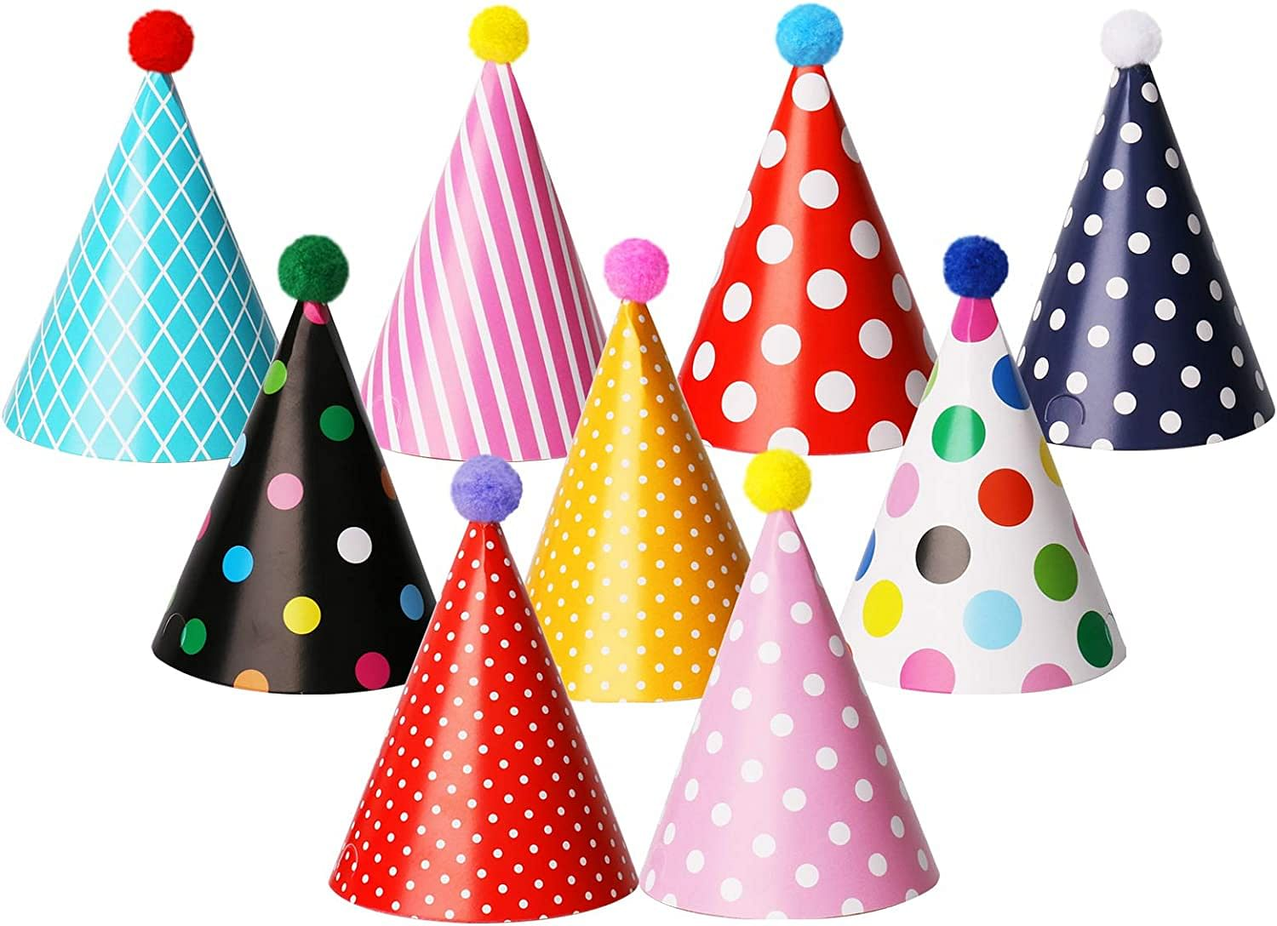cone: (329, 522, 639, 923), (639, 511, 940, 920), (838, 296, 1127, 694), (152, 300, 437, 694), (3, 70, 279, 462), (677, 66, 938, 455), (1016, 65, 1275, 450), (360, 60, 608, 462), (525, 298, 752, 703)
